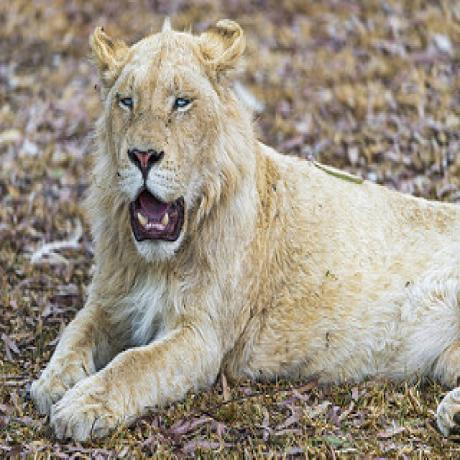Lion: (30, 19, 460, 443)
